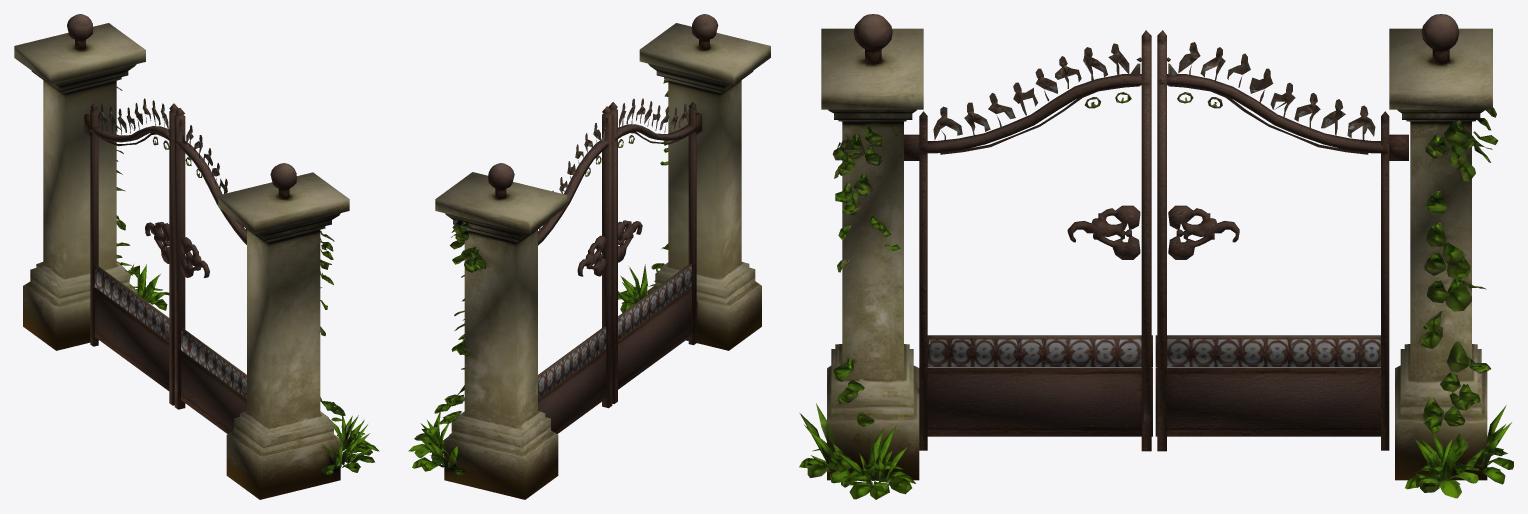
The model's file is Arch_Gate_Colonial 1.fbx.
3 views of the same model, side by side, from view 1: azimuth 30°, elevation 25°; view 2: azimuth 150°, elevation 25°; view 3: azimuth 270°, elevation 25° (orthographic). The views are drawn at different scales.
Visible parts, largest first — view 1: Arch_Gate_Colonial_Body, Arch_Gate_Colonial_Right, Arch_Gate_Colonial_Left; view 2: Arch_Gate_Colonial_Body, Arch_Gate_Colonial_Left, Arch_Gate_Colonial_Right; view 3: Arch_Gate_Colonial_Body, Arch_Gate_Colonial_Left, Arch_Gate_Colonial_Right.
Part boxes in pixels (x1,y1,x2,y2): Arch_Gate_Colonial_Body: (14, 14, 379, 499); Arch_Gate_Colonial_Right: (84, 98, 178, 405); Arch_Gate_Colonial_Left: (174, 108, 246, 433); Arch_Gate_Colonial_Body: (408, 14, 770, 499); Arch_Gate_Colonial_Left: (608, 98, 701, 403); Arch_Gate_Colonial_Right: (538, 106, 612, 433); Arch_Gate_Colonial_Body: (799, 14, 1513, 499); Arch_Gate_Colonial_Left: (904, 30, 1152, 451); Arch_Gate_Colonial_Right: (1155, 30, 1408, 451).
Size of the model in its own units: 115 by 250 by 370.
